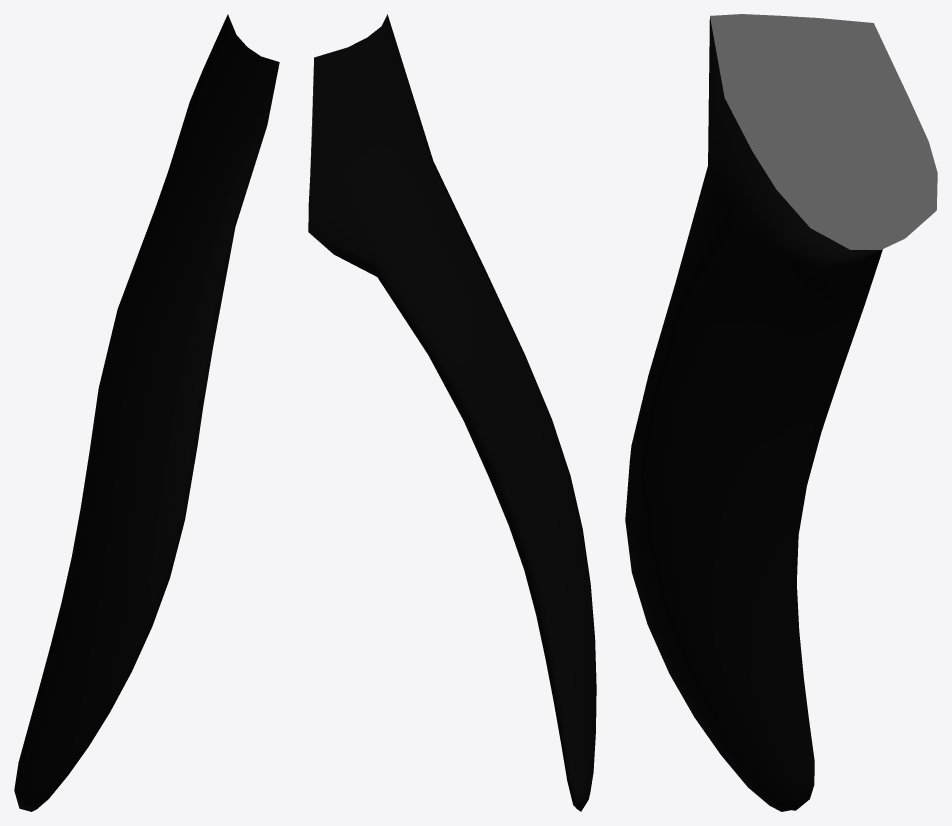
Rendered from AletaDerPinguino.obj.
3 renders of one model, left to right at view 1: azimuth 30°, elevation 25°; view 2: azimuth 150°, elevation 25°; view 3: azimuth 270°, elevation 25°, orthographic. The views are drawn at different scales.
Visible parts, largest first — view 1: AletaDer; view 2: AletaDer; view 3: AletaDer.
Boxes of the visible parts, x1,y1,x2,y2 form: AletaDer: (14, 14, 279, 811); AletaDer: (308, 14, 596, 811); AletaDer: (625, 14, 937, 811).
Size of the model in its own units: 1.5 by 4.3 by 1.3.
